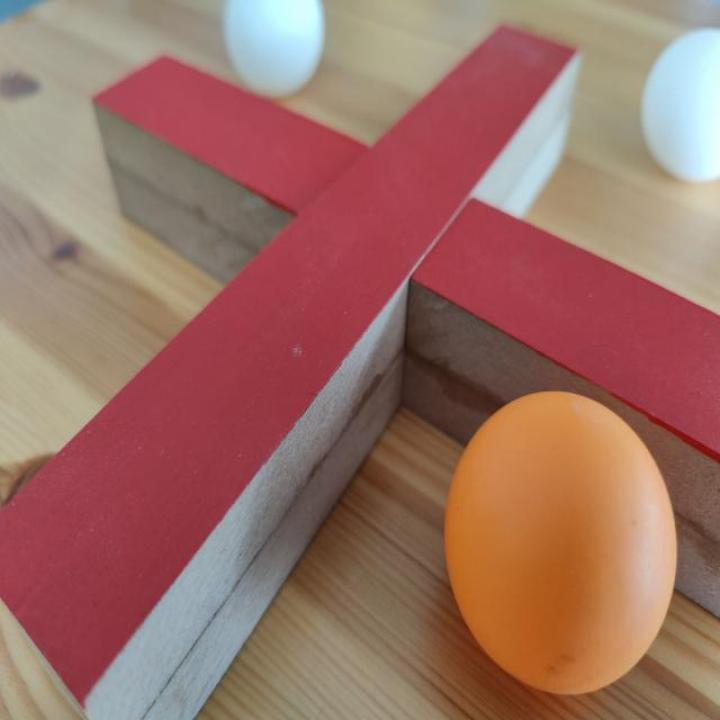orange: (443, 392, 679, 699)
white: (641, 30, 720, 184), (221, 0, 326, 101)
